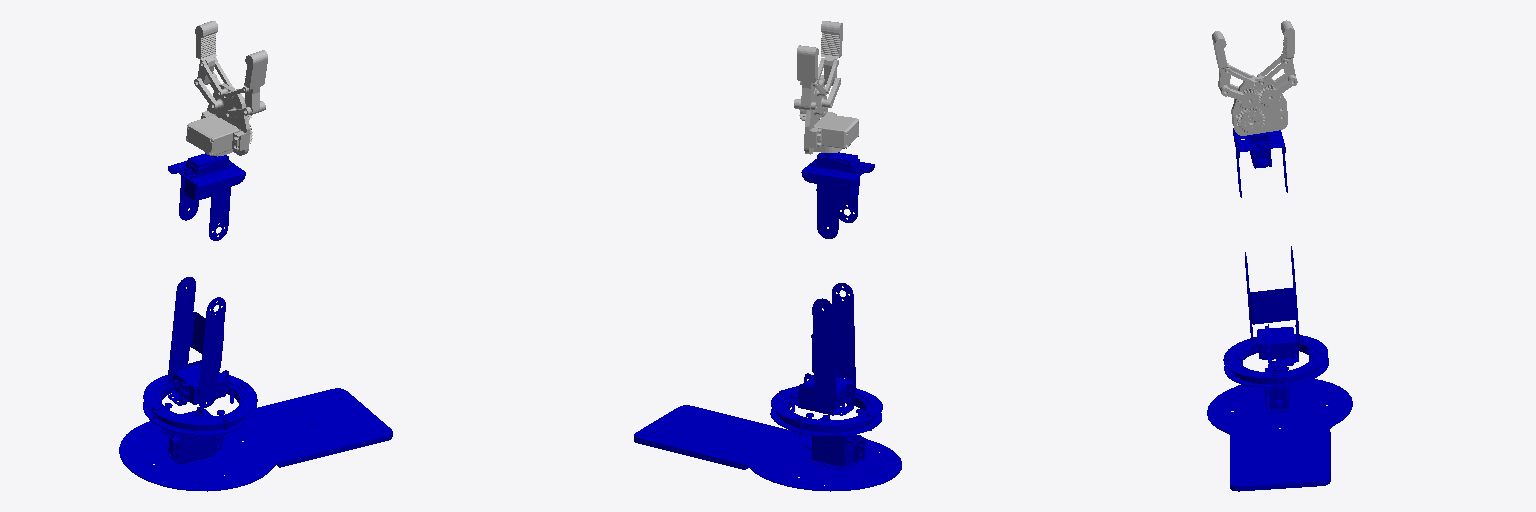
robot.urdf — robotic_arm:
<?xml version="1.0" encoding="utf-8"?>
<robot name="robotic_arm">

  <!-- Material Definitions -->
  <material name="blue">
    <color rgba="0.0 0.0 0.8 1"/>
  </material>
  <material name="silver">
    <color rgba="0.75 0.75 0.75 1"/>
  </material>

  <!-- World Link -->
  <link name="world"/>

  <!-- Base Joint -->
  <joint name="world_to_base" type="fixed">
    <parent link="world"/>
    <child link="base_link"/>
    <origin xyz="0 0 0" rpy="1.5 1.5 1.5"/>
  </joint>

  <!-- Base Link -->
  <link name="base_link">
    <inertial>
      <origin xyz="-0.035398 -0.0004353 0.027453" rpy="0.0 0.0 0.0"/>
      <mass value="0.39671"/>
      <inertia
        ixx="0.00092742"
        ixy="-4.6465E-07"
        ixz="3.0759E-08"
        iyy="0.00057216"
        iyz="1.5079E-07"
        izz="0.00037377"/>
    </inertial>
    <visual>
      <origin xyz="0 0 0" rpy="0.0 0.0 0.0"/>
      <geometry>
        <mesh filename="package://arm_description/meshes/base_link.STL"/>
      </geometry>
      <material name="blue"/>
    </visual>
    <collision>
      <origin xyz="0 0 0" rpy="0.0 0.0 0.0"/>
      <geometry>
        <mesh filename="package://arm_description/meshes/base_link.STL"/>
      </geometry>
    </collision>
  </link>

  <!-- Rotating Base Link -->
  <link name="rotating_base_link">
    <inertial>
      <origin xyz="0.000158275887253499 0.027492254844178 -0.00611871263232042" rpy="0.0 0.0 0.0"/>
      <mass value="0.0561612792514196"/>
      <inertia
        ixx="9.9128401791064E-06"
        ixy="2.12663345089064E-11"
        ixz="3.39707661438049E-08"
        iyy="1.76973775421821E-05"
        iyz="4.60310716010097E-07"
        izz="1.32217491388007E-05"/>
    </inertial>
    <visual>
      <origin xyz="0 0 0" rpy="0.0 0.0 0.0"/>
      <geometry>
        <mesh filename="package://arm_description/meshes/rotating_base_link.STL"/>
      </geometry>
      <material name="blue"/>
    </visual>
    <collision>
      <origin xyz="0 0 0" rpy="0.0 0.0 0.0"/>
      <geometry>
        <mesh filename="package://arm_description/meshes/rotating_base_link.STL"/>
      </geometry>
    </collision>
  </link>

  <!-- Rotating Base Joint -->
  <joint name="rotating_base_joint" type="revolute">
    <origin xyz="-0.0466999999999999 0 0" rpy="0.0 -1.527545 1.570796"/>
    <parent link="base_link"/>
    <child link="rotating_base_link"/>
    <axis xyz="0 1 0"/>
    <limit lower="-1.57" upper="1.220" effort="100" velocity="2"/>
  </joint>

  <!-- Shoulder Link -->
  <link name="shoulder_link">
    <inertial>
      <origin xyz="0.05 0.00141746277739371 -0.00395375026056261" rpy="0.0 0.0 0.0"/>
      <mass value="0.0422835365975949"/>
      <inertia
        ixx="2.5539223828081E-05"
        ixy="5.2304284492953E-20"
        ixz="5.09708693455176E-21"
        iyy="3.9772332084034E-05"
        iyz="-6.979081923206E-08"
        izz="5.89921114741114E-05"/>
    </inertial>
    <visual>
      <origin xyz="0 0 0" rpy="0.0 0.0 0.0"/>
      <geometry>
        <mesh filename="package://arm_description/meshes/shoulder_link.STL"/>
      </geometry>
      <material name="blue"/>
    </visual>
    <collision>
      <origin xyz="0 0 0" rpy="0.0 0.0 0.0"/>
      <geometry>
        <mesh filename="package://arm_description/meshes/shoulder_link.STL"/>
      </geometry>
    </collision>
  </link>

  <!-- Shoulder Joint -->
  <joint name="shoulder_joint" type="revolute">
    <origin xyz="-0.00949999999999954 0.0308700000000001 0" rpy="-1.5 0.0 1.5"/>
    <parent link="rotating_base_link"/>
    <child link="shoulder_link"/>
    <axis xyz="0 1 0"/>
    <limit lower="-1.308" upper="0.610" effort="100" velocity="2"/>
  </joint>

  <!-- Elbow Link -->
  <link name="elbow_link">
    <inertial>
      <origin xyz="-0.0450025328071686 -0.0042809747594438 -0.00130547754639812" rpy="0.0 0.0 0.0"/>
      <mass value="0.13493321141733"/>
      <inertia
        ixx="3.06279251143249E-05"
        ixy="1.20337731418417E-09"
        ixz="-1.91215180545226E-09"
        iyy="8.18401391205364E-05"
        iyz="1.06896103680731E-06"
        izz="0.000101277084508677"/>
    </inertial>
    <visual>
      <origin xyz="0 0 0" rpy="0.0 0.0 0.0"/>
      <geometry>
        <mesh filename="package://arm_description/meshes/elbow_link.STL"/>
      </geometry>
      <material name="blue"/>
    </visual>
    <collision>
      <origin xyz="0 0 0" rpy="0.0 0.0 0.0"/>
      <geometry>
        <mesh filename="package://arm_description/meshes/elbow_link.STL"/>
      </geometry>
    </collision>
  </link>

  <!-- Elbow Joint -->
  <joint name="elbow_joint" type="revolute">
    <origin xyz="0.1 0 0" rpy="0.0 0.080838 3.141593"/>
    <parent link="shoulder_link"/>
    <child link="elbow_link"/>
    <axis xyz="0 1 0"/>
    <limit lower="-1.57" upper="1.57" effort="100" velocity="2"/>
  </joint>

  <!-- Forearm Link -->
  <link name="forearm_link">
    <inertial>
      <origin xyz="0.0010832320248741 -0.047774444639081 -0.000231064174041173" rpy="0.0 0.0 0.0"/>
      <mass value="0.0447180559582269"/>
      <inertia
        ixx="1.67225851396217E-05"
        ixy="-1.16841164754521E-07"
        ixz="-2.11846893656155E-11"
        iyy="1.4108277215624E-05"
        iyz="-3.39709530009559E-08"
        izz="1.67748719855516E-05"/>
    </inertial>
    <visual>
      <origin xyz="0 0 0" rpy="0.0 0.0 0.0"/>
      <geometry>
        <mesh filename="package://arm_description/meshes/forearm_link.STL"/>
      </geometry>
      <material name="blue"/>
    </visual>
    <collision>
      <origin xyz="0 0 0" rpy="0.0 0.0 0.0"/>
      <geometry>
        <mesh filename="package://arm_description/meshes/forearm_link.STL"/>
      </geometry>
    </collision>
  </link>

  <!-- Forearm Joint -->
  <joint name="forearm_joint" type="revolute">
    <origin xyz="-0.0899999999999956 0 0" rpy="0.040179 0.0 -1.570796"/>
    <parent link="elbow_link"/>
    <child link="forearm_link"/>
    <axis xyz="1 0 0"/>
    <limit lower="-1.57" upper="1.57" effort="100" velocity="2"/>
  </joint>

  <!-- Wrist Link -->
  <link name="wrist_link">
    <inertial>
      <origin xyz="0.0190989125713327 0.00061469939040844 0.00252312799008259" rpy="0.0 0.0 0.0"/>
      <mass value="0.0529522848326195"/>
      <inertia
        ixx="1.10404885697885E-05"
        ixy="-1.53962728731698E-07"
        ixz="-9.76735867241465E-07"
        iyy="1.00687044394914E-05"
        iyz="-3.98653063319089E-07"
        izz="1.82604593599498E-05"/>
    </inertial>
    <visual>
      <origin xyz="0 0 0" rpy="0.0 0.0 0.0"/>
      <geometry>
        <mesh filename="package://arm_description/meshes/wrist_link.STL"/>
      </geometry>
      <material name="silver"/>
    </visual>
    <collision>
      <origin xyz="0 0 0" rpy="0.0 0.0 0.0"/>
      <geometry>
        <mesh filename="package://arm_description/meshes/wrist_link.STL"/>
      </geometry>
    </collision>
  </link>

  <!-- Wrist Joint -->
  <joint name="wrist_joint" type="revolute">
    <origin xyz="0.00099999999999714 -0.0795710619584145 -0.0097500000000017" rpy="-3.112453 0.0 -1.570796"/>
    <parent link="forearm_link"/>
    <child link="wrist_link"/>
    <axis xyz="1 0 0"/>
    <limit lower="-1.57" upper="1.57" effort="100" velocity="2"/>
  </joint>

  <!-- Gripper Left Link -->
  <link name="gripper_left_link">
    <inertial>
      <origin xyz="0.0484172860271485 -0.0241584658945902 0.0142380102355266" rpy="0.0 0.0 0.0"/>
      <mass value="0.0163529802377136"/>
      <inertia
        ixx="2.95937890453479E-06"
        ixy="1.60740985116118E-06"
        ixz="4.04413653565078E-09"
        iyy="2.27972601870315E-06"
        iyz="1.56748388623883E-12"
        izz="4.68843868201044E-06"/>
    </inertial>
    <visual>
      <origin xyz="0 0 0" rpy="0.0 0.0 0.0"/>
      <geometry>
        <mesh filename="package://arm_description/meshes/gripper_left_link.STL"/>
      </geometry>
      <material name="silver"/>
    </visual>
    <collision>
      <origin xyz="0 0 0" rpy="0.0 0.0 0.0"/>
      <geometry>
        <mesh filename="package://arm_description/meshes/gripper_left_link.STL"/>
      </geometry>
    </collision>
  </link>

  <!-- Gripper Left Joint -->
  <joint name="gripper_left_joint" type="revolute">
    <origin xyz="0.031104 0 0" rpy="0.023878 -0.042377 1.0575"/>
    <parent link="wrist_link"/>
    <child link="gripper_left_link"/>
    <axis xyz="0 0 1"/>
    <limit lower="-1.57" upper="1.57" effort="100" velocity="2"/>
    <mimic joint="gripper_right_joint" multiplier="1" offset="0"/>
  </joint>

  <!-- Gripper Right Link -->
  <link name="gripper_right_link">
    <inertial>
      <origin xyz="-0.0375860640609017 -0.0369591692006576 -0.0142262545696464" rpy="0.0 0.0 0.0"/>
      <mass value="0.016328263992727"/>
      <inertia
        ixx="1.31332905769687E-06"
        ixy="-9.9717065345883E-07"
        ixz="1.4036038701819E-09"
        iyy="3.92463290581539E-06"
        iyz="3.79932405367648E-09"
        izz="4.68749882724247E-06"/>
    </inertial>
    <visual>
      <origin xyz="0 0 0" rpy="0.0 0.0 0.0"/>
      <geometry>
        <mesh filename="package://arm_description/meshes/gripper_right_link.STL"/>
      </geometry>
      <material name="silver"/>
    </visual>
    <collision>
      <origin xyz="0 0 0" rpy="0.0 0.0 0.0"/>
      <geometry>
        <mesh filename="package://arm_description/meshes/gripper_right_link.STL"/>
      </geometry>
    </collision>
  </link>

  <!-- Gripper Right Joint -->
  <joint name="gripper_right_joint" type="revolute">
    <origin xyz="0.033035 0 0" rpy="3.0936 0.007631 -2.9842"/>
    <parent link="wrist_link"/>
    <child link="gripper_right_link"/>
    <axis xyz="0 0 1"/>
    <limit lower="-1.57" upper="1.57" effort="100" velocity="2"/>
  </joint>


</robot>

--- What the picture shows (computed from the rendered views, not written in the file) ---
Views: 3 orthographic renders of the robot side by side, from view 1: azimuth 30°, elevation 25°; view 2: azimuth 150°, elevation 25°; view 3: azimuth 270°, elevation 25°.
Model robotic_arm with 9 links and 8 joints (7 revolute, 1 fixed), rooted at world, posed all joints at 0.
Visible links, largest first — view 1: base_link, shoulder_link, forearm_link, wrist_link, gripper_right_link, rotating_base_link, gripper_left_link; view 2: base_link, shoulder_link, forearm_link, wrist_link, gripper_left_link, gripper_right_link, rotating_base_link; view 3: base_link, shoulder_link, wrist_link, rotating_base_link, gripper_right_link, gripper_left_link, forearm_link.
Link boxes in pixels (x1=…): base_link: x1=119, y1=372, x2=392, y2=491; shoulder_link: x1=168, y1=277, x2=225, y2=407; forearm_link: x1=168, y1=153, x2=245, y2=240; wrist_link: x1=186, y1=83, x2=252, y2=156; gripper_right_link: x1=194, y1=21, x2=234, y2=109; rotating_base_link: x1=165, y1=360, x2=235, y2=415; gripper_left_link: x1=223, y1=50, x2=267, y2=119; base_link: x1=634, y1=386, x2=901, y2=491; shoulder_link: x1=811, y1=283, x2=855, y2=412; forearm_link: x1=801, y1=152, x2=874, y2=238; wrist_link: x1=804, y1=83, x2=858, y2=154; gripper_left_link: x1=817, y1=21, x2=842, y2=107; gripper_right_link: x1=794, y1=45, x2=826, y2=120; rotating_base_link: x1=790, y1=373, x2=863, y2=418; base_link: x1=1207, y1=334, x2=1352, y2=491; shoulder_link: x1=1245, y1=246, x2=1299, y2=352; wrist_link: x1=1231, y1=75, x2=1287, y2=135; rotating_base_link: x1=1237, y1=324, x2=1313, y2=371; gripper_right_link: x1=1257, y1=20, x2=1297, y2=107; gripper_left_link: x1=1212, y1=31, x2=1260, y2=110; forearm_link: x1=1233, y1=128, x2=1287, y2=197.
Size in the robot's own frame: 0.2781 by 0.1597 by 0.4785 metres.
Meshes: 8 distinct files referenced, 7 mesh visuals loaded (7 binary STL); not drawn: 1 (file found but could not be loaded).